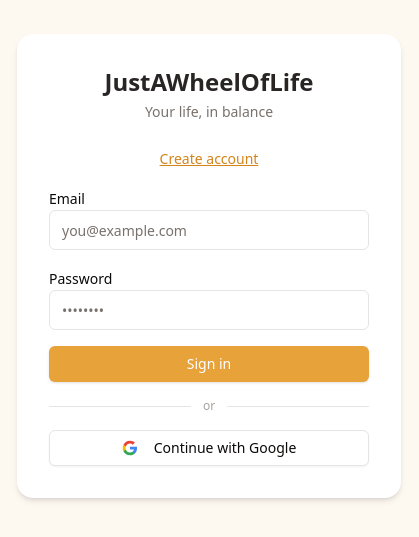
AuthPage › shows inline error when sign-in returns an error
This screenshot has width=419, height=537.
In the field labelled "Email": (209, 230) x1=49 y1=210 x2=369 y2=250, type "bad@example.com"
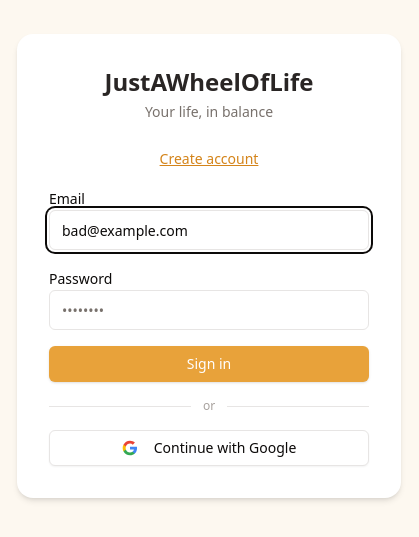
In the password field labelled "Password": (209, 310) x1=49 y1=290 x2=369 y2=330, type "wrongpass"
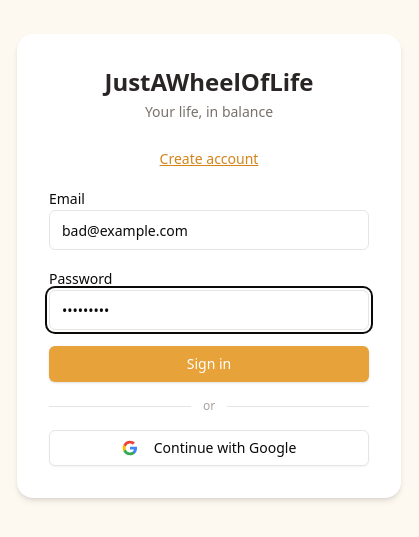
Click the button "Sign in": (209, 364) x1=49 y1=346 x2=369 y2=382
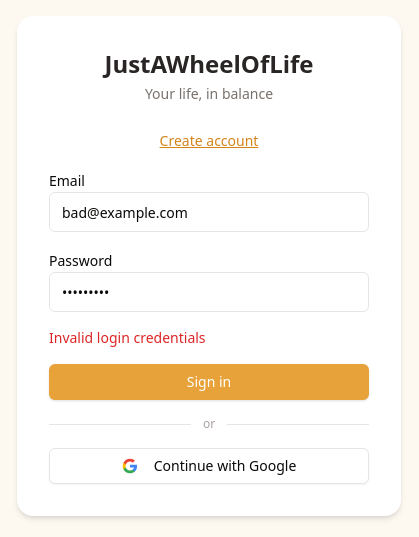
Now the message reads "Invalid login credentials", box x1=49 y1=328 x2=206 y2=347
